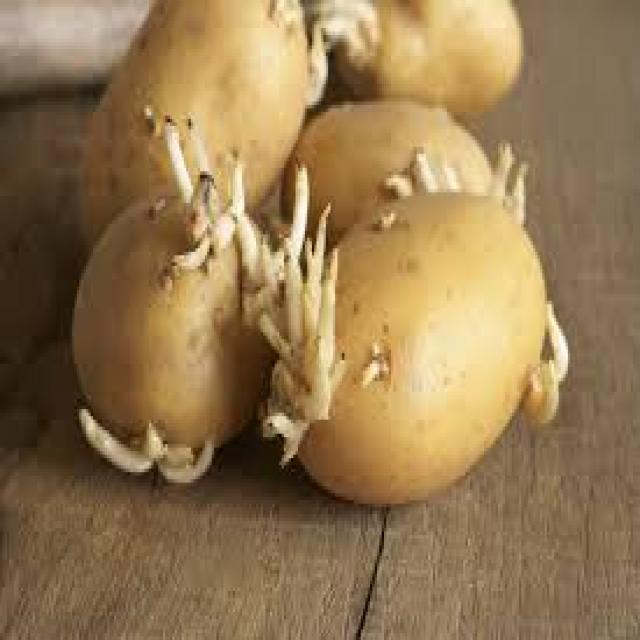biodegradable: (256, 147, 568, 507), (67, 116, 305, 479), (74, 0, 321, 248), (279, 98, 489, 252), (311, 0, 521, 115)
